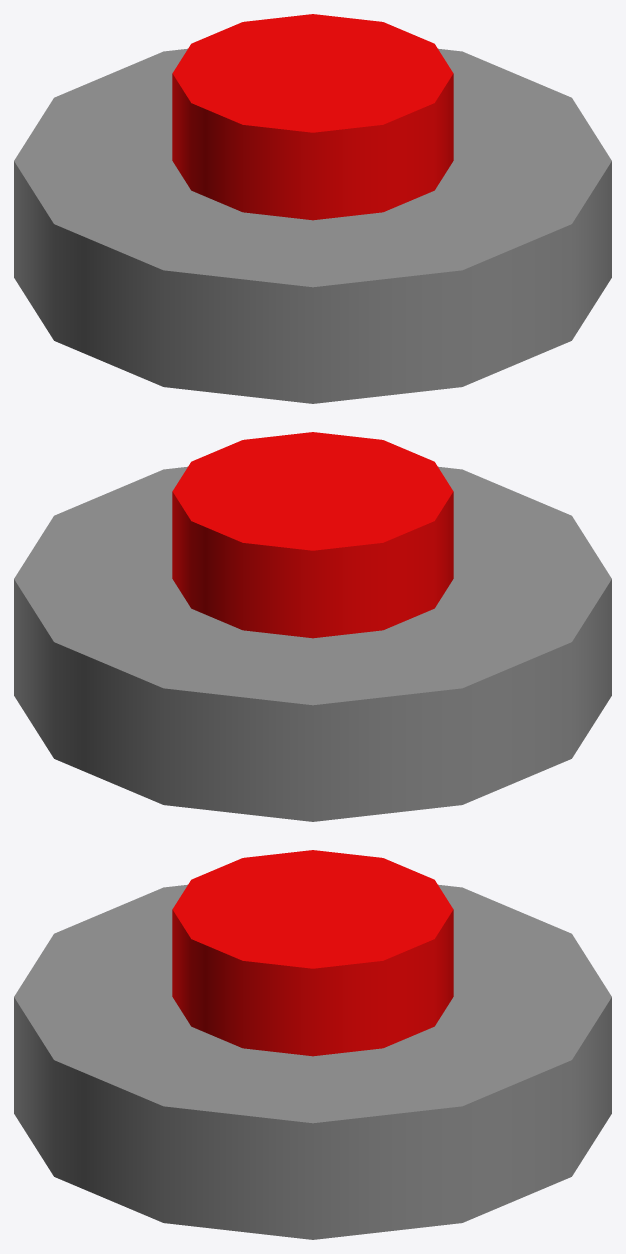
The model's file is mine.FBX.
The picture shows the model from 3 angles, top to bottom: view 1: azimuth 30°, elevation 25°; view 2: azimuth 150°, elevation 25°; view 3: azimuth 270°, elevation 25°; orthographic projection.
Visible parts, largest first — view 1: mine, mine_btn; view 2: mine, mine_btn; view 3: mine, mine_btn.
Part boxes in pixels (x1=…): mine: x1=14, y1=48, x2=611, y2=403; mine_btn: x1=172, y1=14, x2=453, y2=220; mine: x1=14, y1=466, x2=611, y2=821; mine_btn: x1=172, y1=432, x2=453, y2=638; mine: x1=14, y1=884, x2=611, y2=1239; mine_btn: x1=172, y1=850, x2=453, y2=1056.
Bounding box in the file's own units: 1.55 × 1.55 × 0.5831.
